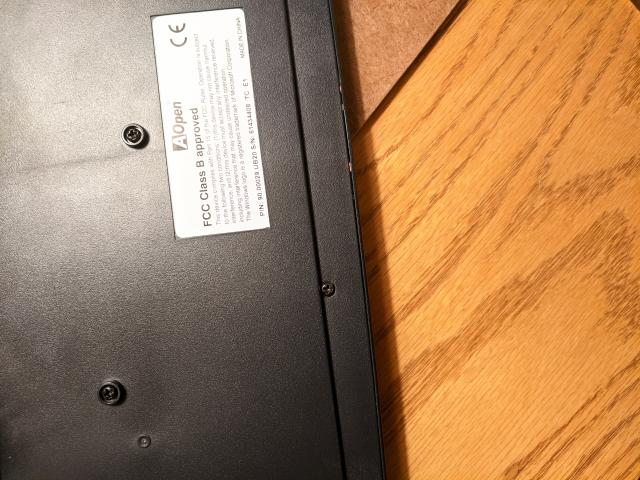CRS: (120, 123, 148, 147), (99, 385, 120, 403), (320, 281, 336, 298)
